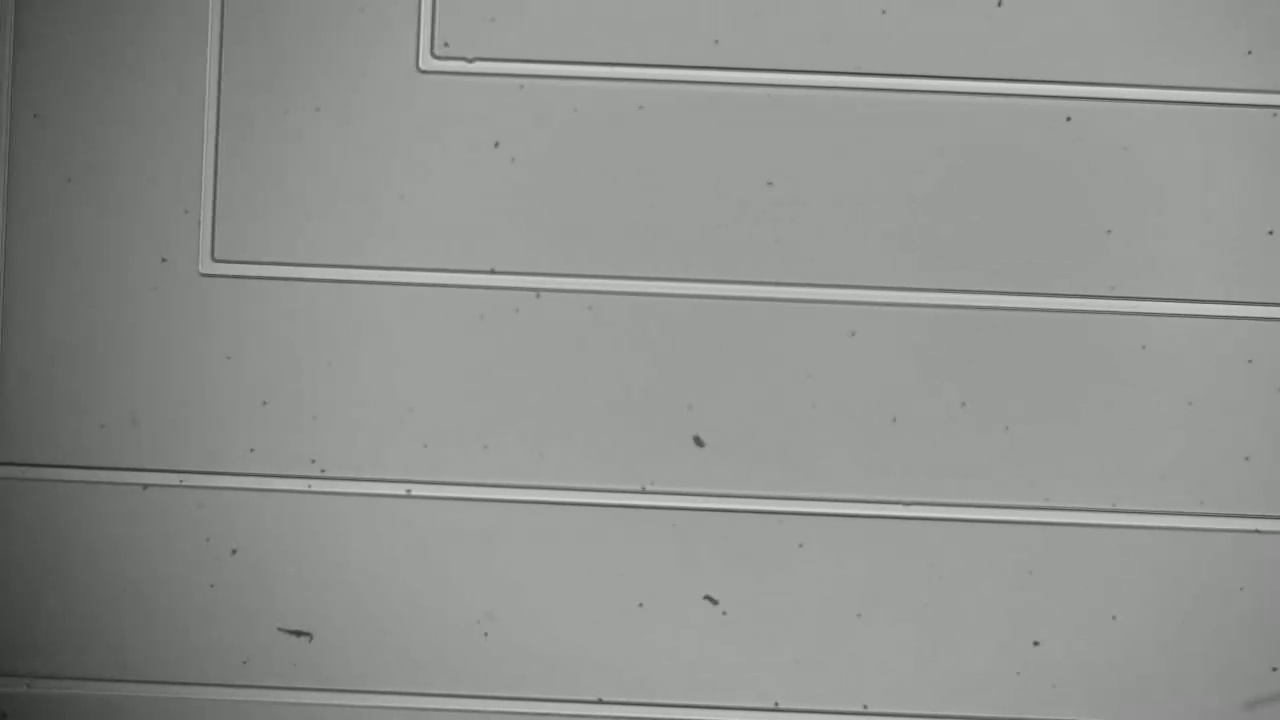edge_bite: (452, 47, 485, 88)
